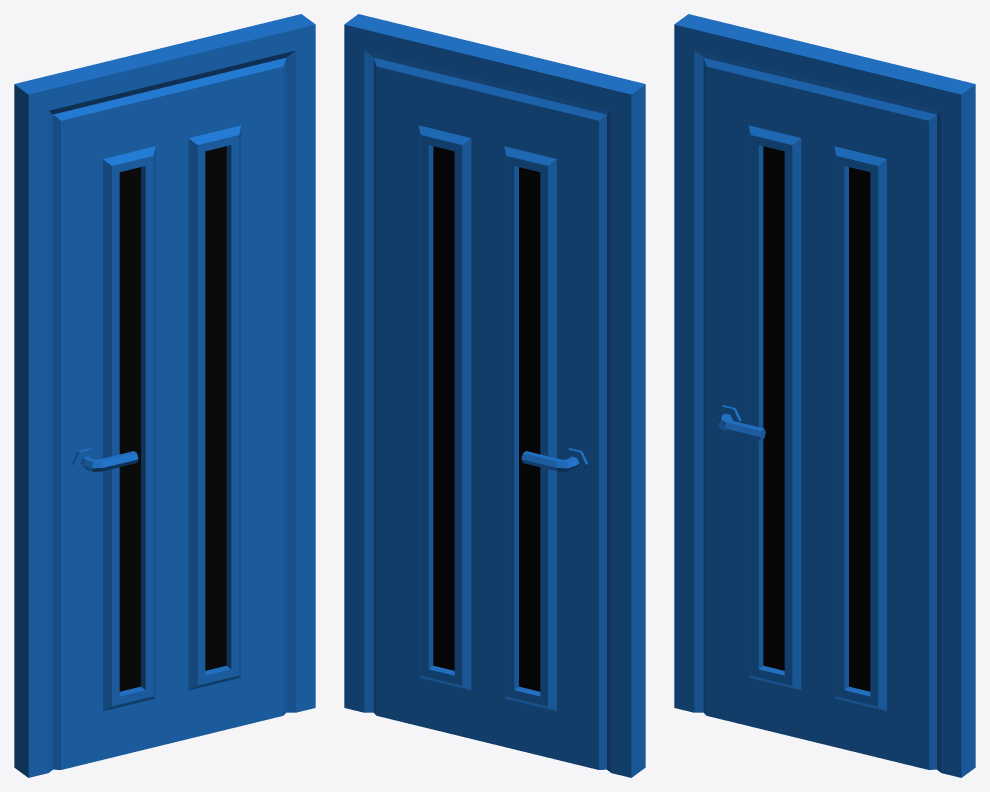
The model's file is space_door_3.fbx.
The picture shows the model from 3 angles, left to right: view 1: azimuth 30°, elevation 25°; view 2: azimuth 150°, elevation 25°; view 3: azimuth 330°, elevation 25°; orthographic projection.
Parts seen in each view (by area): view 1: Symmetry_48; view 2: Symmetry_48; view 3: Symmetry_48.
Boxes of the visible parts, x1=… form: Symmetry_48: x1=14, y1=14, x2=315, y2=777; Symmetry_48: x1=344, y1=14, x2=645, y2=777; Symmetry_48: x1=674, y1=14, x2=975, y2=777.
Size of the model in its own units: 92.39 by 210 by 21.69.
